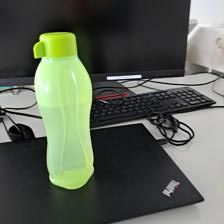bottle: (27, 28, 97, 191)
